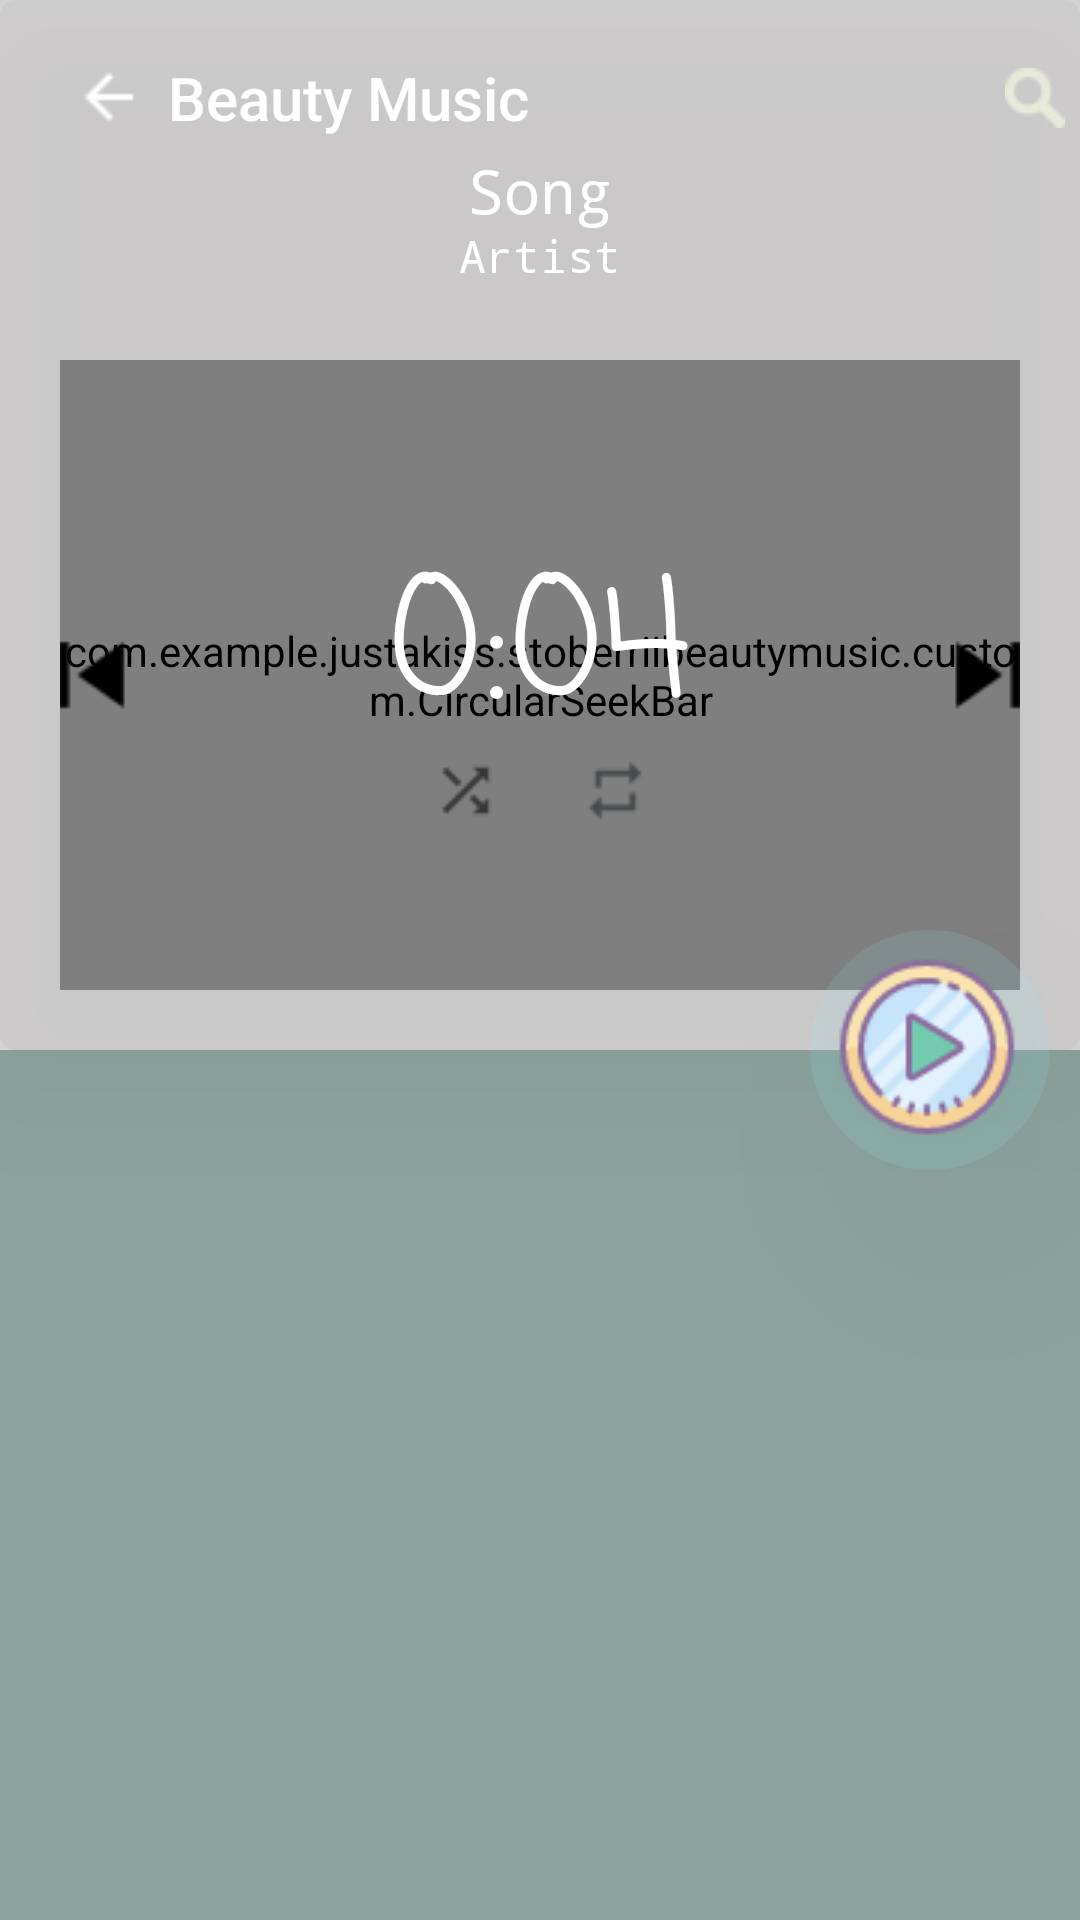

Icon click points for this 1080 × 1920 phone screenshot, format [x,y]:
back: [109,97]
play: [930,1050]
repeat on: [615,790]
search: [1035,98]
